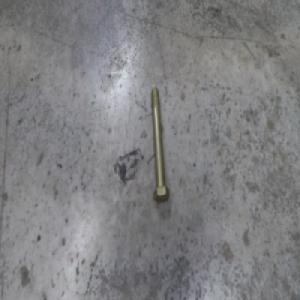Bolt: (148, 87, 169, 200)
